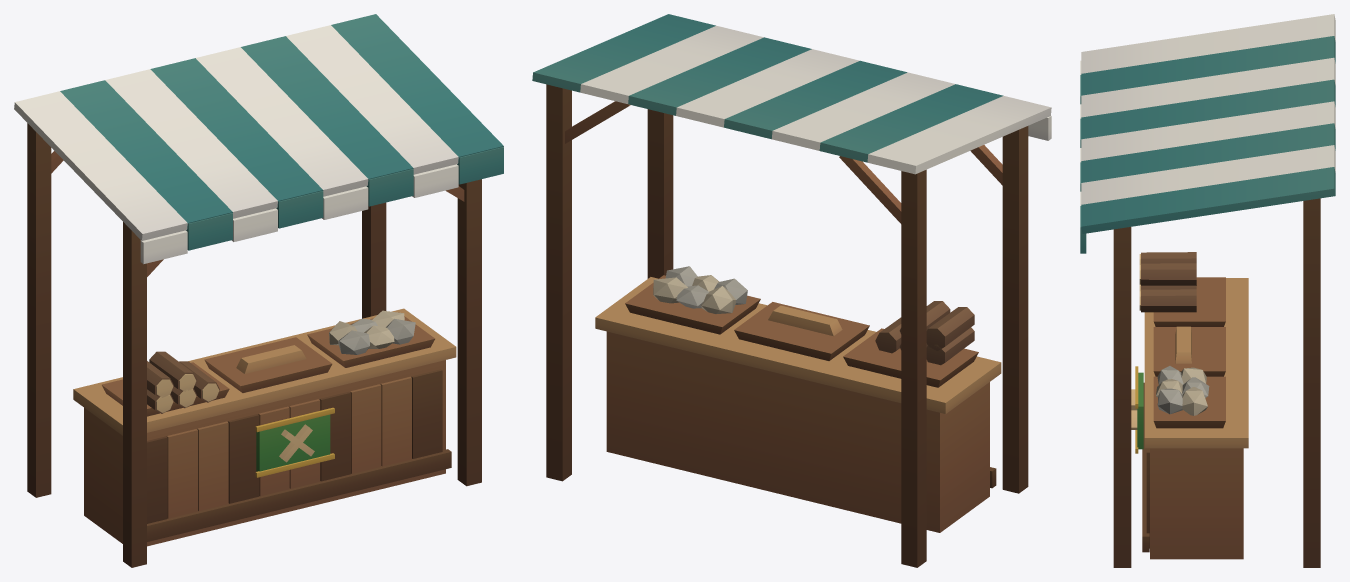
Rendered from stall_esme.glb.
The picture shows the model from 3 angles, left to right: view 1: azimuth 30°, elevation 25°; view 2: azimuth 150°, elevation 25°; view 3: azimuth 270°, elevation 25°; orthographic projection. The views are drawn at different scales.
Visible parts, largest first — view 1: stall_esme; view 2: stall_esme; view 3: stall_esme.
Part boxes in pixels (x1,y1,x2,y2): stall_esme: (14,14,503,567); stall_esme: (532,14,1051,567); stall_esme: (1080,14,1335,567).
Size of the model in its own units: 8.96 by 9.14 by 5.54.
Materials: 1 (1 with a texture image).
